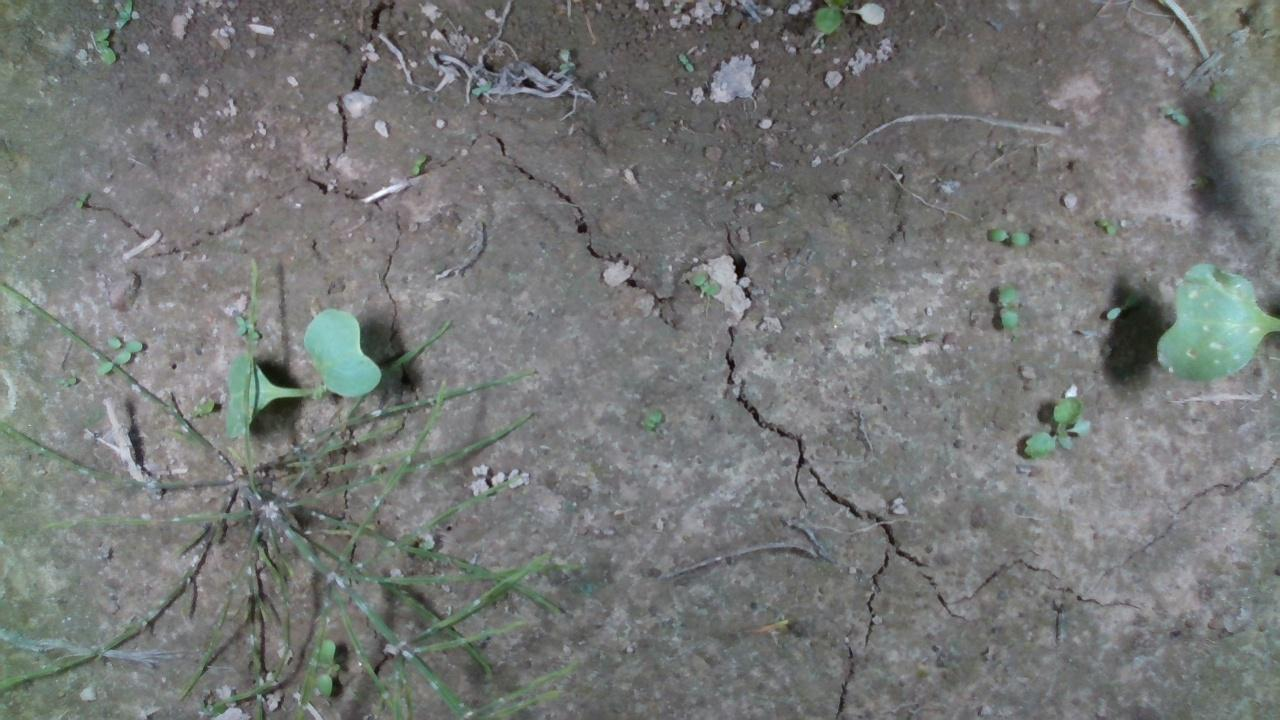weed: (1021, 393, 1092, 459), (994, 280, 1020, 331), (1103, 290, 1139, 323), (985, 225, 1032, 247), (688, 269, 722, 295), (1158, 102, 1190, 129), (639, 407, 662, 431), (1092, 215, 1117, 235), (410, 152, 427, 175), (675, 52, 694, 72)
